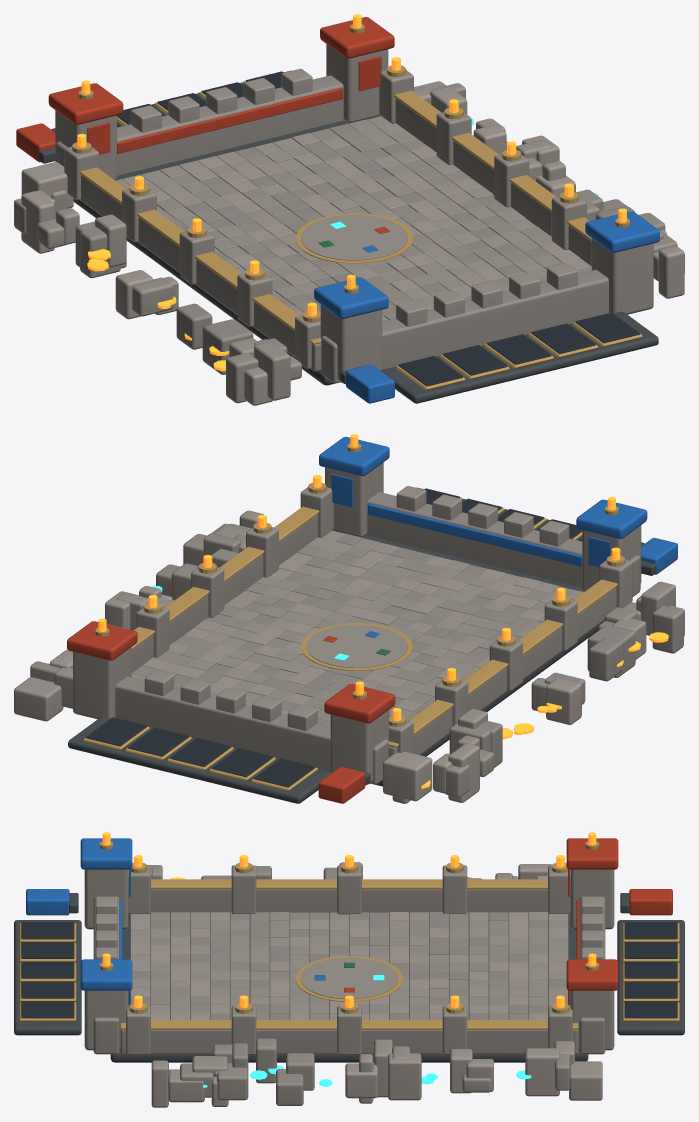
Rendered from elemental-arena.glb.
The picture shows the model from 3 angles, top to bottom: view 1: azimuth 30°, elevation 25°; view 2: azimuth 150°, elevation 25°; view 3: azimuth 270°, elevation 25°; orthographic projection. The views are drawn at different scales.
Parts seen in each view (by area): view 1: Fortress battlement.001, Fortress battlement, Outer arena wall, Deck backing.001, Outer arena wall.001, Elemental seal inset, Corner fortress tower.003, Corner fortress tower.002, Gold parapet, Fortress accent, Foundation, Corner fortress tower.001 (+51 smaller); view 2: Fortress battlement, Fortress battlement.001, Outer arena wall, Deck backing, Outer arena wall.001, Elemental seal inset, Corner fortress tower.001, Corner fortress tower, Gold parapet, Fortress accent.001, Corner fortress tower.003, Gold parapet.001 (+52 smaller); view 3: Outer arena wall, Outer arena wall.001, Foundation, Gold parapet, Gold parapet.001, Elemental seal inset, Deck backing, Deck backing.001, Corner fortress tower, Corner fortress tower.002, Corner fortress tower.001, Corner fortress tower.003 (+48 smaller).
Part boxes in pixels (x1,y1,x2,y2): Fortress battlement.001: (321, 269, 608, 383); Fortress battlement: (56, 75, 344, 175); Outer arena wall: (80, 175, 321, 371); Deck backing.001: (381, 311, 658, 403); Outer arena wall.001: (395, 98, 591, 265); Elemental seal inset: (301, 215, 407, 260); Corner fortress tower.003: (591, 238, 653, 314); Corner fortress tower.002: (320, 304, 382, 382); Gold parapet: (63, 160, 321, 344); Fortress accent: (117, 88, 342, 153); Foundation: (73, 116, 379, 385); Corner fortress tower.001: (326, 44, 388, 122); Fortress battlement: (115, 676, 388, 784); Fortress battlement.001: (366, 492, 640, 596); Outer arena wall: (388, 587, 616, 757); Deck backing: (68, 716, 331, 803); Outer arena wall.001: (131, 514, 317, 672); Elemental seal inset: (306, 624, 407, 667); Corner fortress tower.001: (73, 647, 131, 719); Corner fortress tower: (330, 710, 389, 784); Gold parapet: (388, 572, 633, 747); Fortress accent.001: (368, 504, 582, 566); Corner fortress tower.003: (325, 462, 383, 537); Gold parapet.001: (131, 506, 319, 649); Outer arena wall: (150, 889, 548, 913); Outer arena wall.001: (120, 1029, 578, 1054); Foundation: (110, 914, 588, 1062); Gold parapet: (151, 879, 547, 889); Gold parapet.001: (120, 1020, 578, 1029); Elemental seal inset: (300, 957, 398, 999); Deck backing: (617, 920, 684, 1035); Deck backing.001: (14, 920, 81, 1035); Corner fortress tower: (570, 869, 614, 929); Corner fortress tower.002: (84, 869, 128, 929); Corner fortress tower.001: (570, 990, 614, 1050); Corner fortress tower.003: (84, 990, 128, 1050).
Size of the model in its own units: 25.13 by 6.34 by 33.7.
